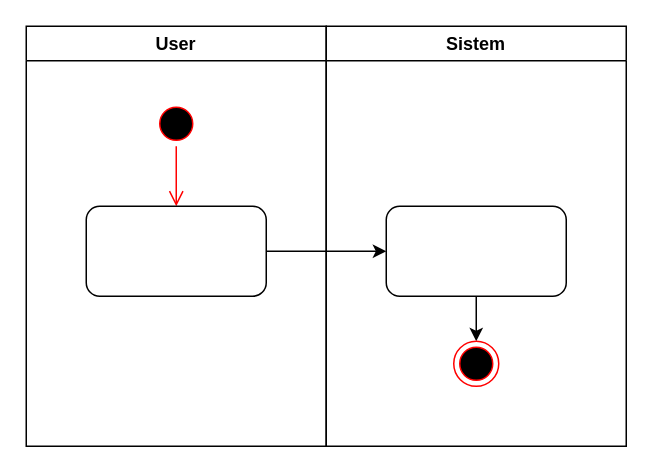
Some shapes in this 653 by 473 pixel diagram are drawn without their labels. Each missing label, with the box of its shape:
Menampilkan halaman laporan inspection: (385, 205, 566, 296)
Pilih Laporan Inspection pada sidebar: (85, 205, 266, 296)
